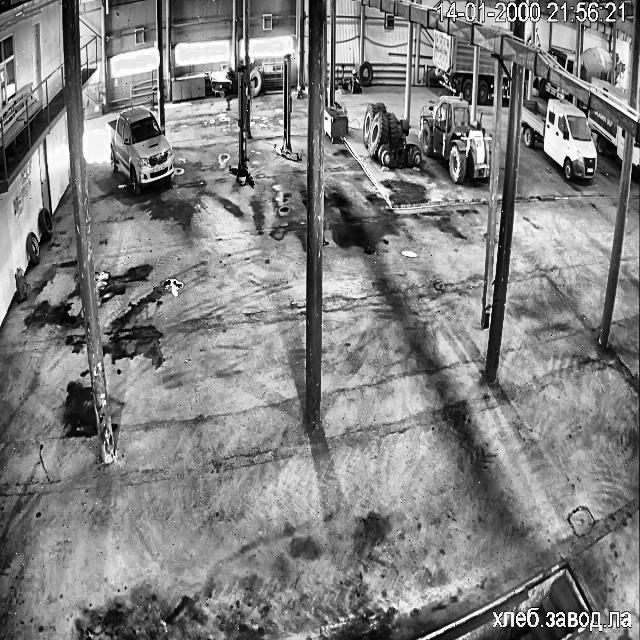car lift: (229, 66, 253, 186), (276, 54, 300, 161)
fire extinguisher: (16, 268, 26, 300)
tractor: (420, 96, 489, 182), (362, 102, 420, 166)
truck: (521, 99, 596, 180), (108, 106, 173, 195), (432, 28, 474, 100), (588, 108, 624, 160), (580, 46, 622, 83), (477, 46, 494, 102), (593, 80, 627, 103), (538, 77, 572, 99), (548, 45, 574, 73), (632, 140, 640, 180), (498, 71, 509, 99), (505, 60, 511, 75)
